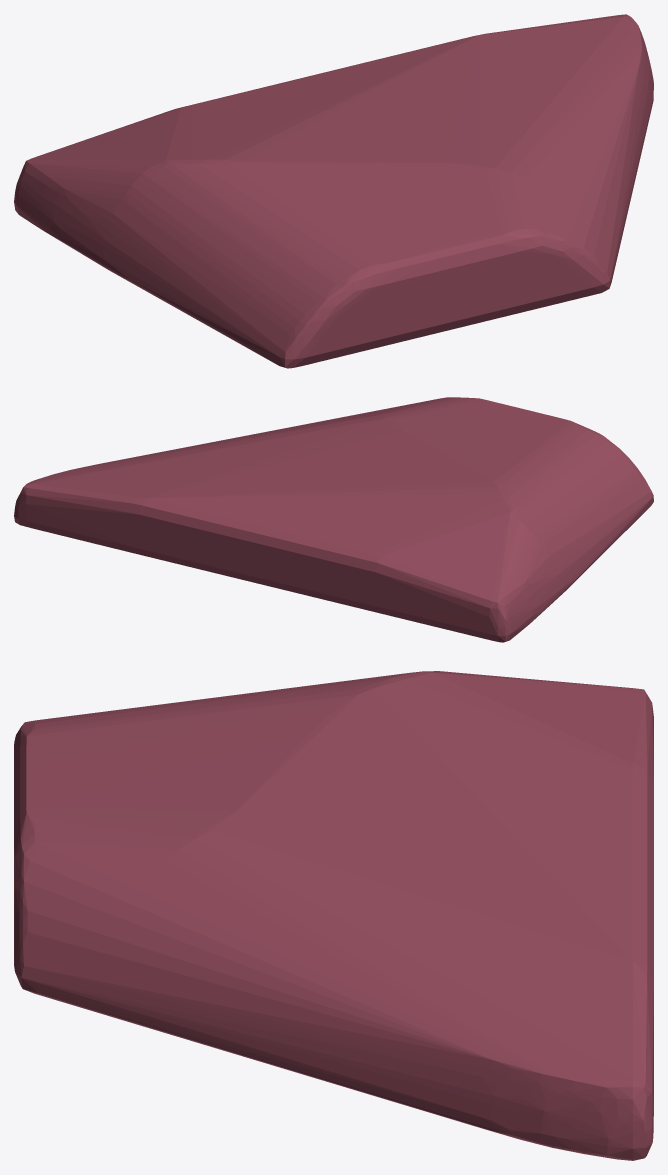
File: left_shoulder_yaw_link_part_13.obj
3 views of the same model, one above another, from view 1: azimuth 30°, elevation 25°; view 2: azimuth 150°, elevation 25°; view 3: azimuth 270°, elevation 25° (orthographic). The views are drawn at different scales.
Bounding box in the file's own units: 0.0972 × 0.0153 × 0.0633.
